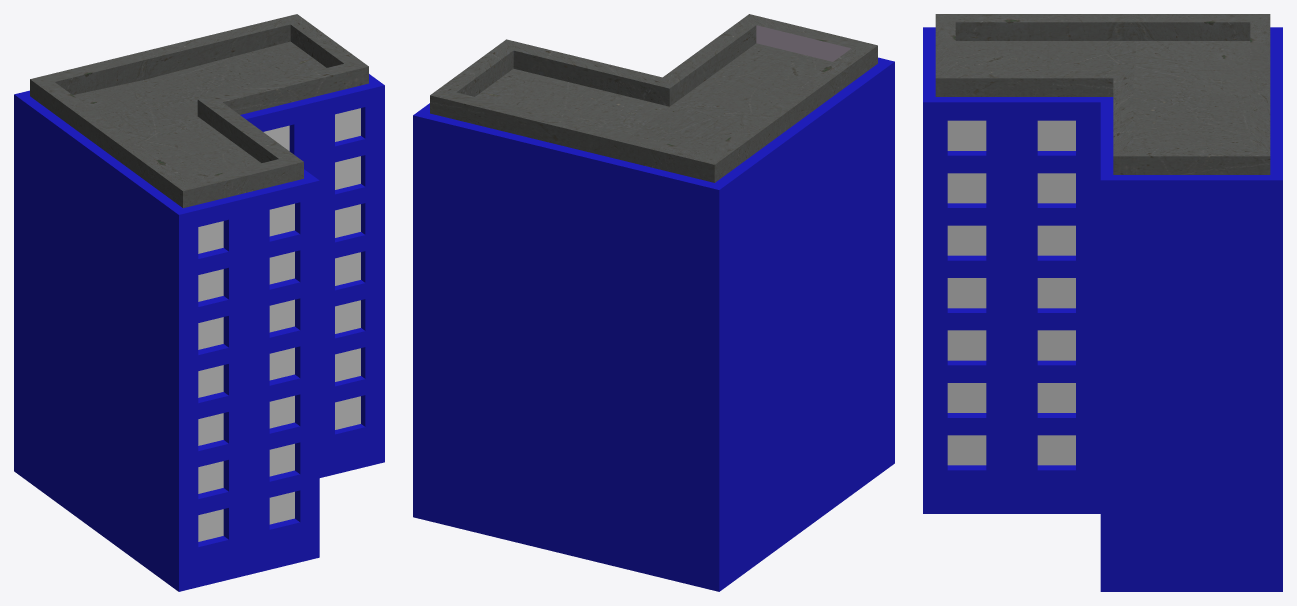
Rendered from building.obj.
The picture shows the model from 3 angles, left to right: view 1: azimuth 30°, elevation 25°; view 2: azimuth 150°, elevation 25°; view 3: azimuth 270°, elevation 25°; orthographic projection. The views are drawn at different scales.
Parts seen in each view (by area): view 1: Cube; view 2: Cube; view 3: Cube.
Part boxes in pixels (bbox=[...]): Cube: bbox=[14, 14, 384, 591]; Cube: bbox=[413, 14, 894, 591]; Cube: bbox=[923, 14, 1282, 591].
Bounding box in the file's own units: 4.08 × 5.34 × 4.05.
